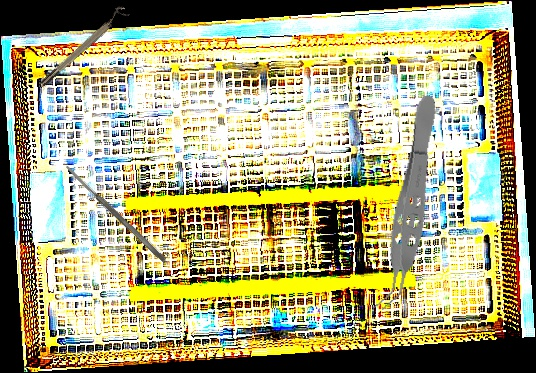Fixation Ring: (36, 3, 130, 89)
Spatula Surgical: (63, 162, 168, 265)
Tissue Forceps: (371, 92, 447, 315)
